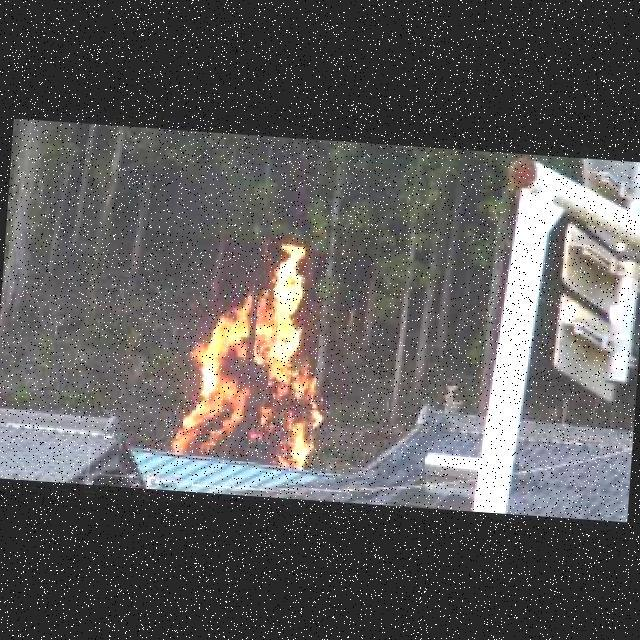Fire: (172, 235, 333, 471)
